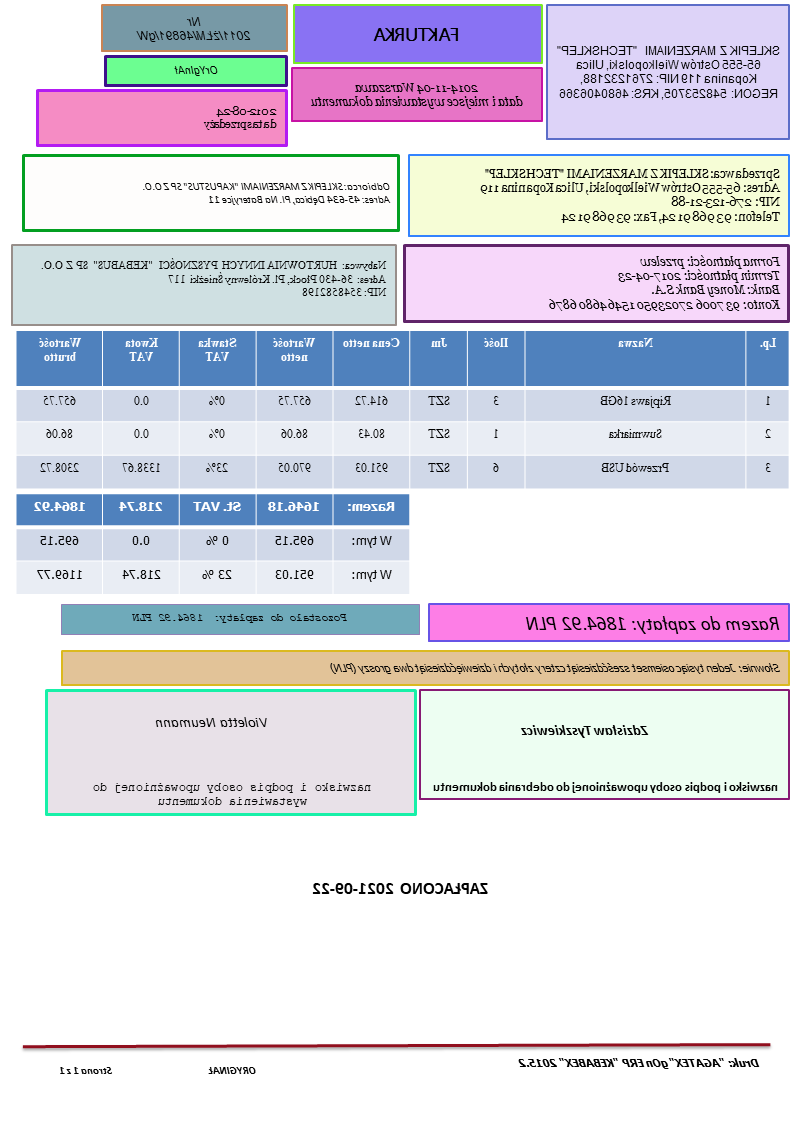Table: (16, 328, 792, 490), (16, 493, 412, 596)
TextBox: (477, 162, 784, 227), (40, 257, 391, 302), (545, 251, 784, 315), (556, 41, 784, 103), (87, 778, 375, 809), (328, 659, 784, 677), (143, 176, 394, 207), (308, 80, 526, 112), (524, 612, 785, 638), (430, 777, 783, 795), (514, 1052, 764, 1073), (133, 12, 255, 46), (308, 878, 492, 898), (55, 1061, 262, 1078), (130, 609, 353, 624), (519, 718, 651, 740), (202, 102, 282, 135), (155, 712, 272, 732), (370, 24, 462, 46), (171, 62, 221, 79)
